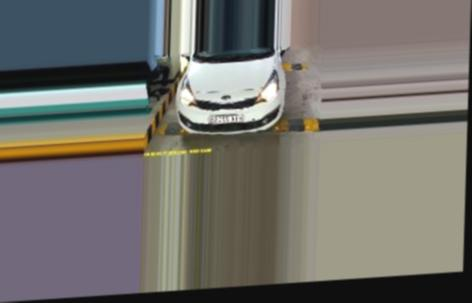License_Plate: (208, 113, 243, 126)
